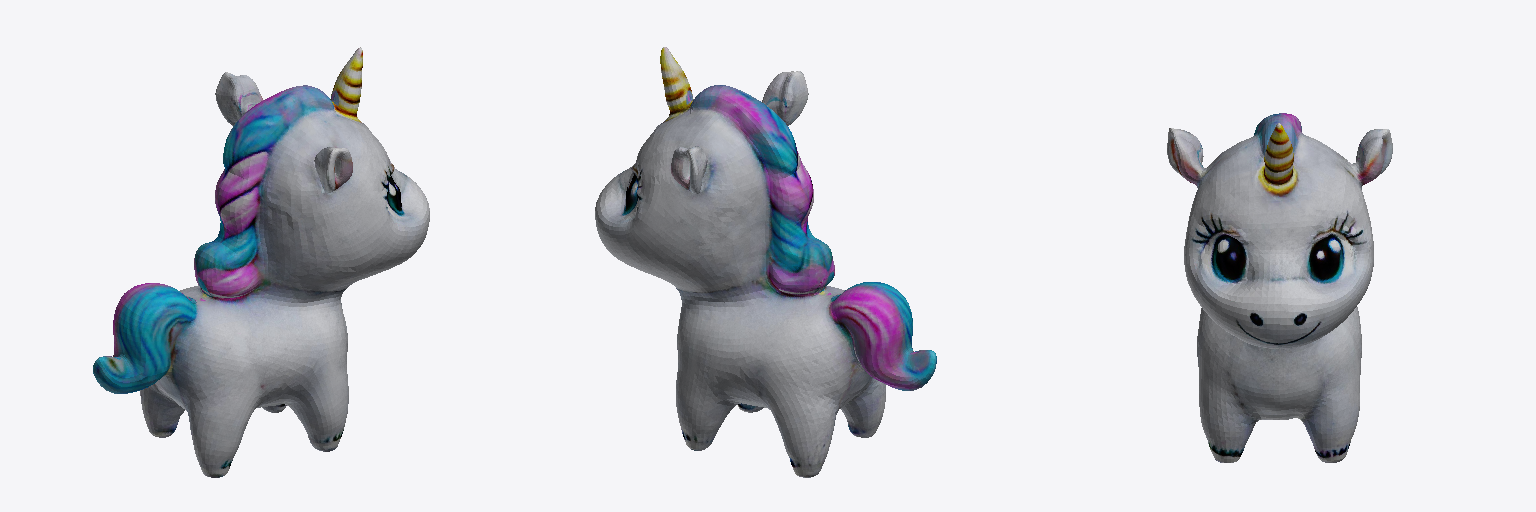
3 views of the same model, side by side, from view 1: azimuth 30°, elevation 25°; view 2: azimuth 150°, elevation 25°; view 3: azimuth 270°, elevation 25° (orthographic).
Visible parts, largest first — view 1: mesh; view 2: mesh; view 3: mesh.
Part boxes in pixels (x1,y1,x2,y2): mesh: (93, 47, 429, 477); mesh: (595, 47, 936, 477); mesh: (1167, 113, 1392, 462).
Size of the model in its own units: 0.9372 by 0.9964 by 0.5562.
1 materials, 1 textured.